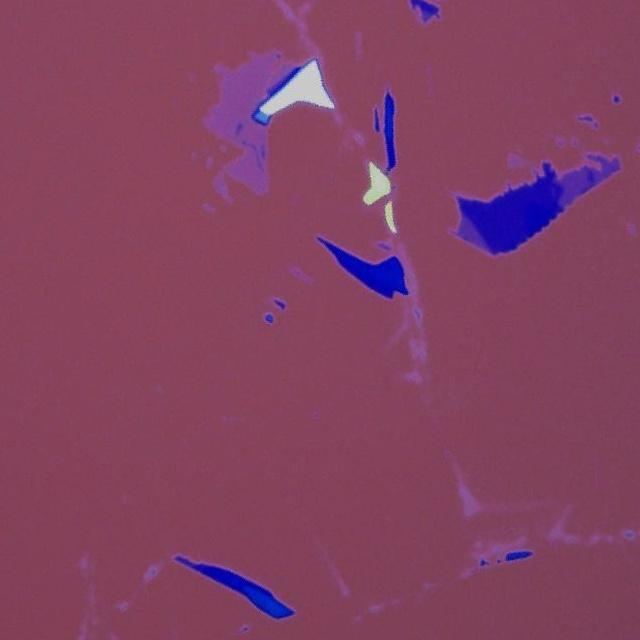monolayer-eWW4: (189, 42, 290, 200)
